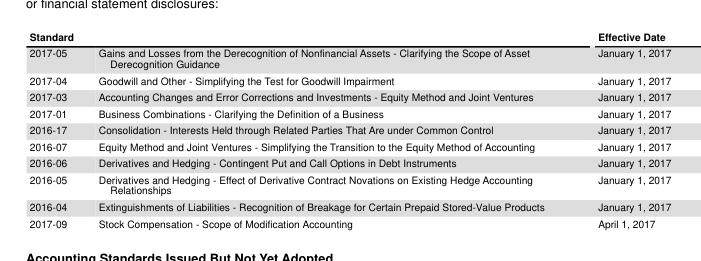table: (28, 29, 670, 229)
table column: (82, 29, 570, 229), (570, 29, 670, 229), (28, 29, 82, 229)
table column header: (28, 29, 670, 71)
table row: (28, 44, 670, 71), (28, 170, 670, 197), (28, 87, 670, 104), (28, 104, 670, 121), (28, 153, 670, 170), (28, 197, 670, 214), (28, 71, 670, 87), (28, 121, 670, 137), (28, 137, 670, 153), (28, 29, 670, 44), (28, 214, 670, 229)
table spanning cell: (28, 29, 570, 44), (570, 29, 670, 71)
